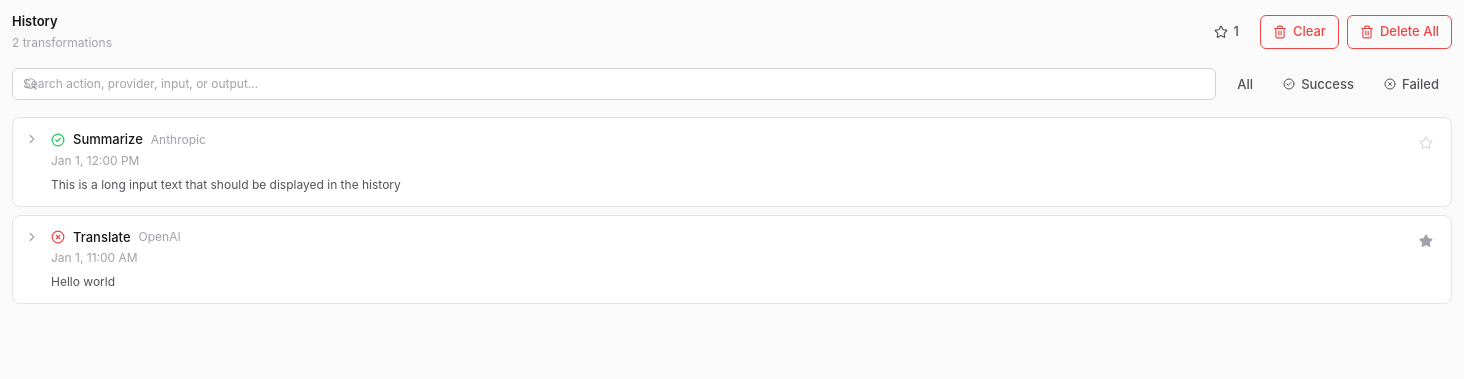
Scenario: HistoryList › shows singular clear message when one starred entry is preserved
The image size is (1464, 379).
Expected: the text "Summarize" is shown, [73,130,143,150]
Click the button "Clear".
click(1299, 32)  # box [1260,15,1339,48]
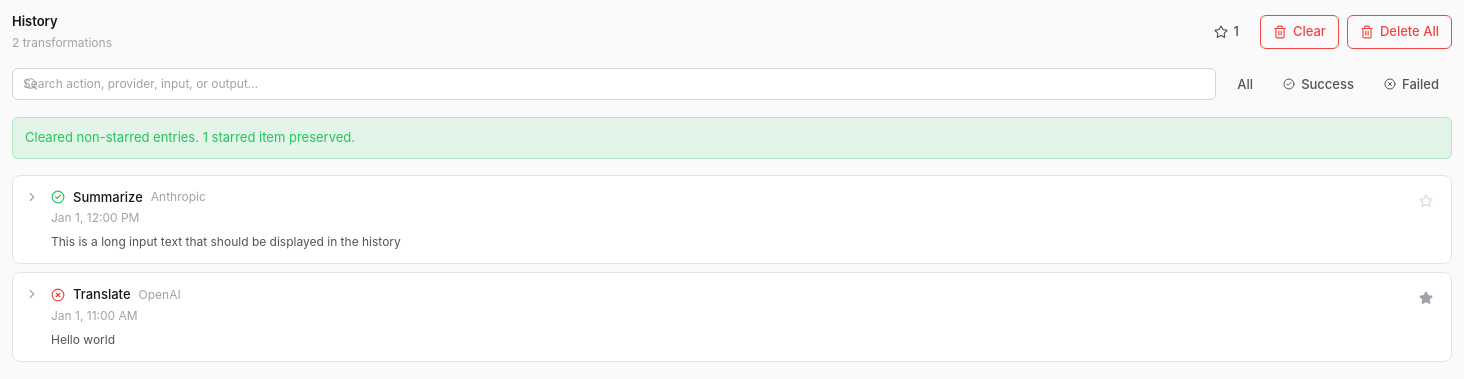
Now the text "Cleared non-starred entries. 1 starred item preserved." is shown, box [12,117,1452,158]
